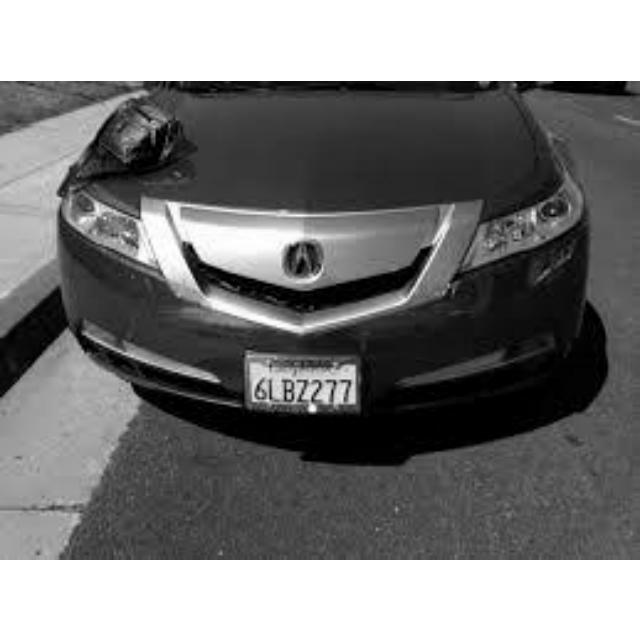bonnet-dent: (92, 80, 282, 198)
